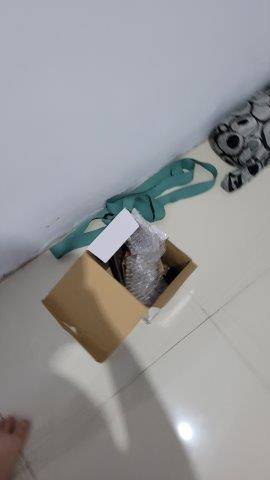kardus: (40, 207, 198, 363)
